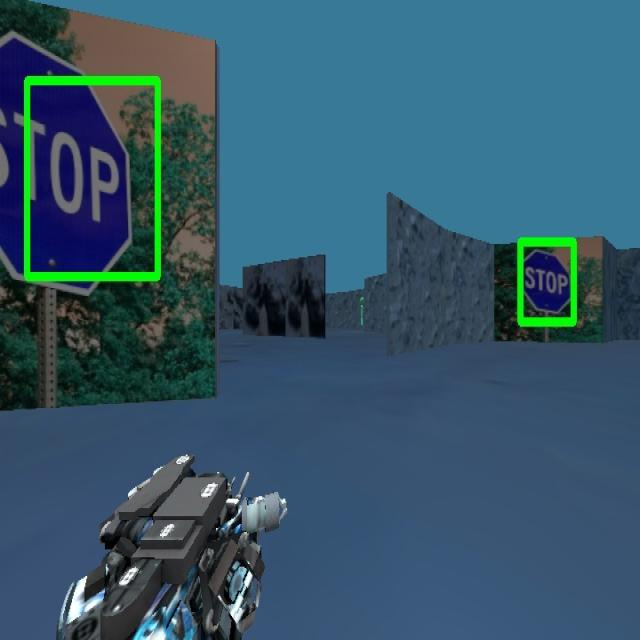Alien: (348, 269, 374, 387)
Diamon: (24, 74, 163, 289)
Stop_Sign: (516, 235, 578, 328)
